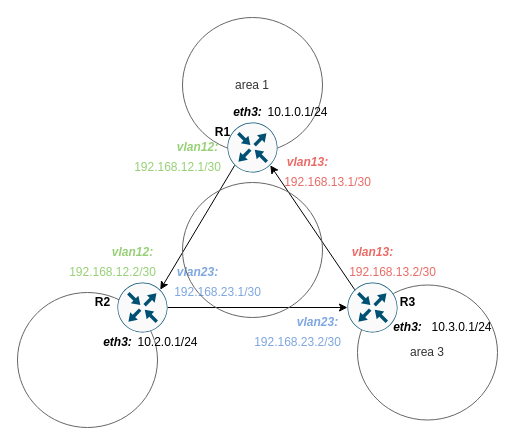
Image size: 519x445. Some labels were removed from this diagram. Here are the shapes that lost their labels. From the top down, the box of each, then its label:
(182, 182, 322, 318): area 0
(16, 292, 158, 428): area 2
